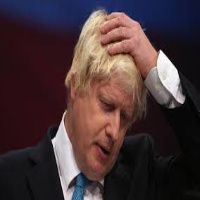ring: (100, 25, 135, 47)
